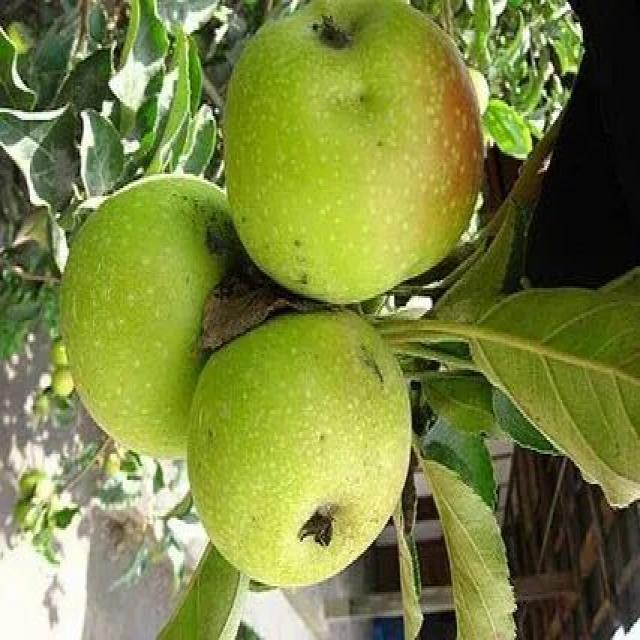Fresh Apple: (225, 5, 495, 302), (177, 309, 419, 595), (52, 173, 198, 479)
